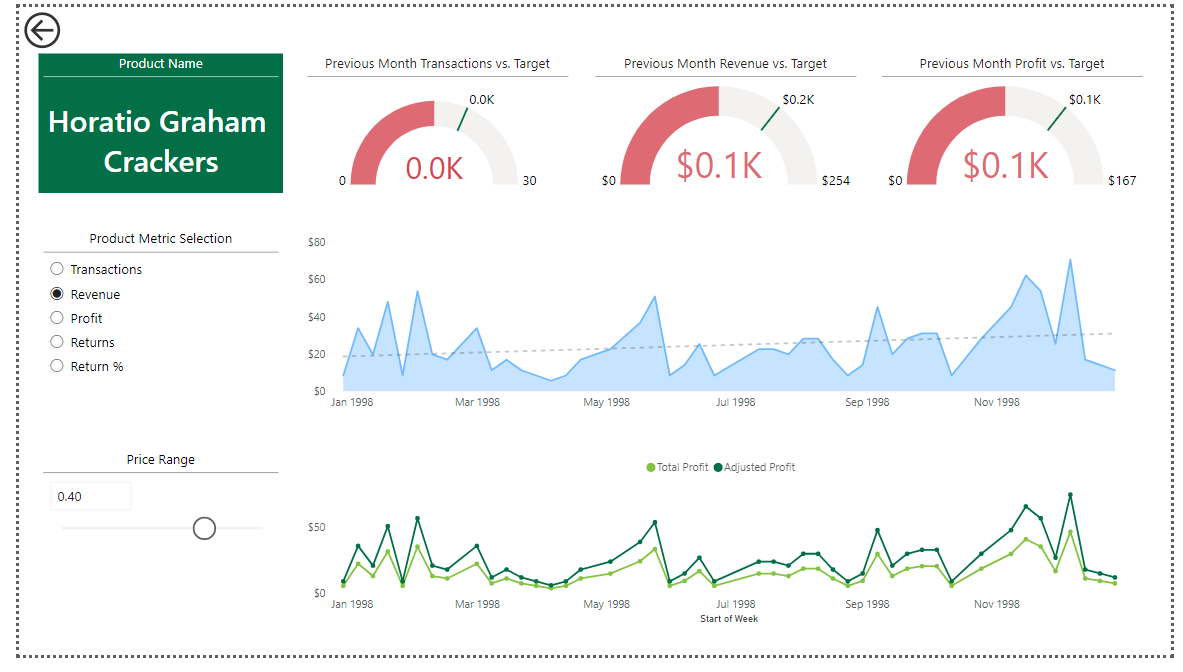

The dashboard page shown, as its layout file describes it:
{"tool":"powerbi","page":{"name":"Product Details","canvas":[1280,720],"ordinal":1},"visuals":[{"type":"shape","box":[21.7,51.7,271.7,155],"z":0},{"type":"card","title":"Product Name","fields":{"Values":["Products Lookup.product_name"]},"box":[21.7,51.7,271.7,155],"z":1000},{"type":"gauge","title":"Previous Month Transactions vs. Target","fields":{"Y":["ToplineMeasure.Total Transactions"],"TargetValue":["ToplineMeasure.Transactions Target"]},"box":[315,51.7,300,155],"z":2000},{"type":"gauge","title":"Previous Month Revenue vs. Target","fields":{"Y":["ToplineMeasure.Total Revenue"],"TargetValue":["ToplineMeasure.Revenue Target"]},"box":[635,51.7,300,155],"z":3000},{"type":"gauge","title":"Previous Month Profit vs. Target","fields":{"Y":["ToplineMeasure.Total Profit"],"TargetValue":["ToplineMeasure.Profit Target"]},"box":[953.3,51.7,300,155],"z":4000},{"type":"slicer","title":"Product Metric Selection","fields":{"Values":["Product Metrics.Product Metrics"]},"box":[21.7,246.7,271.7,173.3],"z":5000},{"type":"areaChart","fields":{"Y":["ToplineMeasure.Total Transactions"],"Category":["Calendar.Start of Week"]},"box":[315,246.7,933.3,210],"z":6000},{"type":"slicer","title":"Price Range","fields":{"Values":["Price Range.Price Range"]},"box":[21.7,491.7,271.7,128.3],"z":7000},{"type":"lineChart","fields":{"Category":["Calendar.Start of Week"],"Y":["ToplineMeasure.Total Profit","ToplineMeasure.Adjusted Profit"]},"box":[315,491.7,933.3,198.3],"z":8000},{"type":"actionButton","box":[0,0,55,51.7],"z":9000}]}

Visuals, with their boxes in screenshot pixels (x1, y1, x2, y2), scaled from the page's 1280x720 canvas onto the 1183x672 screenshot:
shape: [20,48,271,193]
"Product Name" card: [20,48,271,193]
"Previous Month Transactions vs. Target" gauge: [291,48,568,193]
"Previous Month Revenue vs. Target" gauge: [587,48,864,193]
"Previous Month Profit vs. Target" gauge: [881,48,1158,193]
"Product Metric Selection" slicer: [20,230,271,392]
areaChart - ToplineMeasure.Total Transactions x Calendar.Start of Week: [291,230,1154,426]
"Price Range" slicer: [20,459,271,579]
lineChart - Calendar.Start of Week x ToplineMeasure.Total Profit: [291,459,1154,644]
actionButton: [0,0,51,48]
